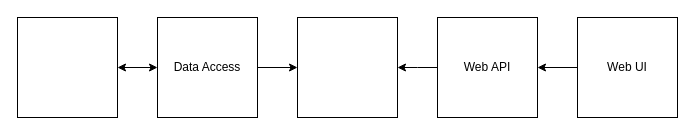
Some shapes in this 695 by 135 pixel diagram are drawn without their labels. The shapes that lost their labels are listed below. From the top down, each one's centre as x and y in pixels, then its label:
At (67,67): "Data Base".
At (347,67): "Buisness Logic".
